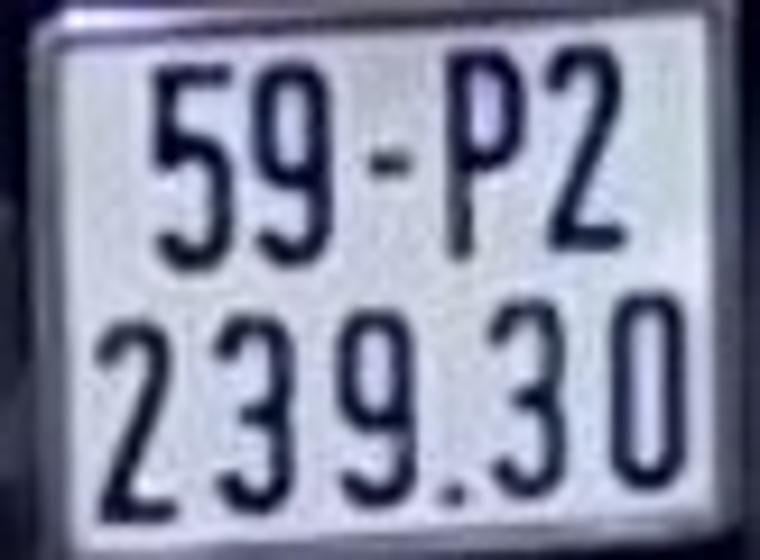-: (368, 147, 418, 191)
.: (432, 470, 473, 511)
0: (608, 292, 687, 490)
2: (84, 320, 188, 527), (541, 38, 633, 257)
3: (472, 292, 576, 509), (213, 300, 302, 513)
5: (143, 57, 242, 280)
9: (243, 59, 346, 277), (327, 308, 422, 512)
P: (437, 39, 528, 261)
